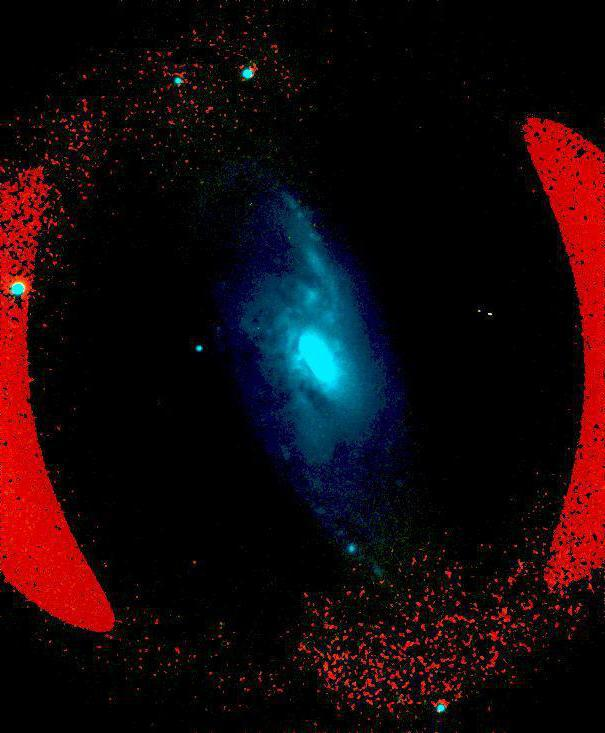star: (180, 546, 210, 576)
